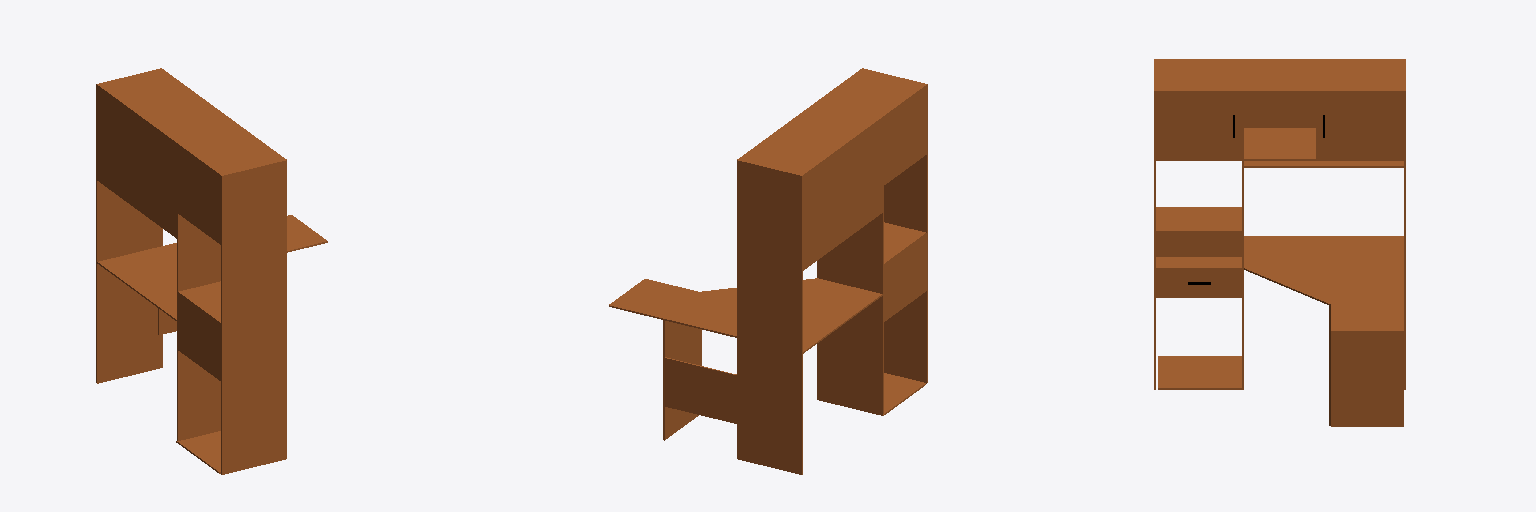
File: computerdesk.obj
3 views of the same model, side by side, from view 1: azimuth 30°, elevation 25°; view 2: azimuth 150°, elevation 25°; view 3: azimuth 270°, elevation 25° (orthographic).
Visible parts, largest first — view 1: 4, 1, 19, 16, 3, 15, 21, 9, 5, 2, 7, 22 (+4 smaller); view 2: 1, 3, 4, 21, 15, 10, 9, 19, 16, 5, 2, 13 (+6 smaller); view 3: 15, 3, 4, 13, 22, 20, 6, 5, 2, 17, 18, 14 (+1 smaller).
Boxes of the visible parts, box(x1,y1,x2,y2) form: 4: box(177, 127, 286, 243); 1: box(96, 154, 162, 383); 19: box(221, 337, 286, 474); 16: box(221, 230, 286, 352); 3: box(96, 68, 205, 184); 15: box(97, 243, 176, 320); 21: box(177, 321, 220, 440); 9: box(177, 213, 220, 320); 5: box(141, 119, 176, 210); 2: box(141, 101, 240, 143); 7: box(97, 155, 176, 238); 22: box(178, 321, 220, 380); 1: box(737, 230, 802, 474); 3: box(737, 127, 846, 243); 4: box(818, 68, 927, 184); 21: box(817, 294, 883, 413); 15: box(665, 278, 882, 353); 10: box(665, 357, 736, 423); 9: box(817, 186, 883, 293); 19: box(884, 261, 927, 383); 16: box(884, 154, 927, 260); 5: box(846, 117, 882, 210); 2: box(783, 101, 882, 143); 13: box(663, 292, 701, 440); 15: box(1244, 236, 1403, 304); 3: box(1316, 59, 1405, 158); 4: box(1154, 59, 1243, 158); 13: box(1329, 304, 1403, 426); 22: box(1156, 257, 1241, 297); 20: box(1158, 356, 1241, 389); 6: box(1154, 128, 1405, 160); 5: box(1244, 59, 1315, 127); 2: box(1244, 59, 1315, 92); 17: box(1156, 207, 1241, 232); 18: box(1156, 233, 1241, 256); 14: box(1331, 305, 1403, 332).
Bounding box in the file's own units: 124 × 182 × 138.